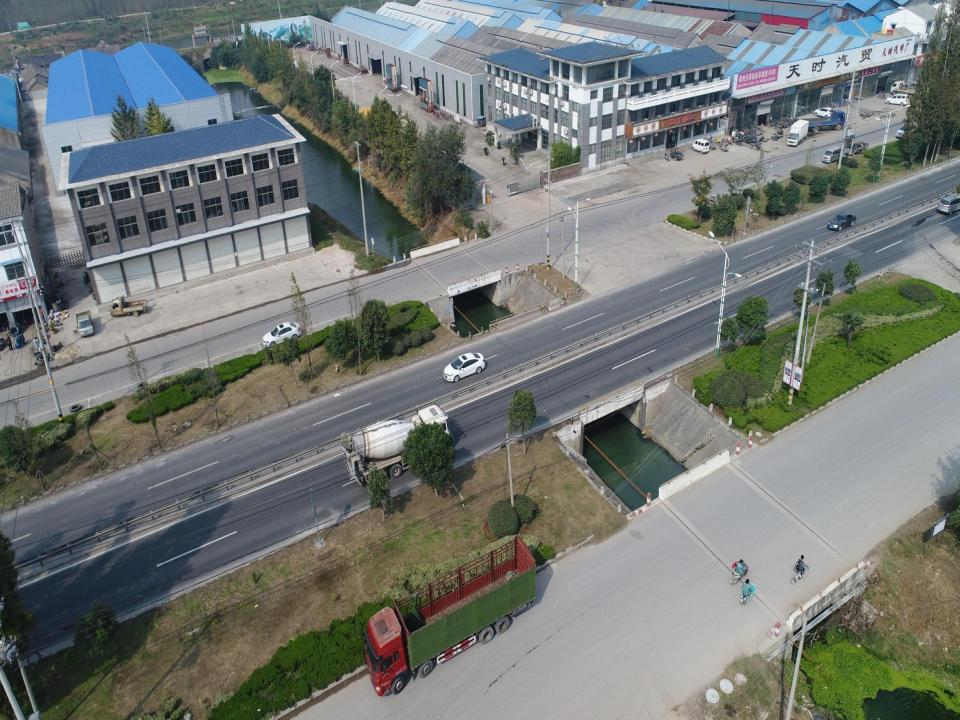car: (443, 352, 485, 384), (262, 321, 302, 348), (827, 212, 856, 231), (936, 194, 959, 216), (895, 124, 916, 139), (814, 107, 833, 119)
truck: (365, 534, 536, 695), (338, 402, 449, 487), (796, 111, 844, 133), (110, 295, 148, 317), (890, 81, 926, 101), (786, 119, 809, 147), (76, 310, 94, 337), (844, 139, 868, 156)
van: (821, 146, 843, 164), (884, 93, 910, 105), (692, 139, 710, 154)
